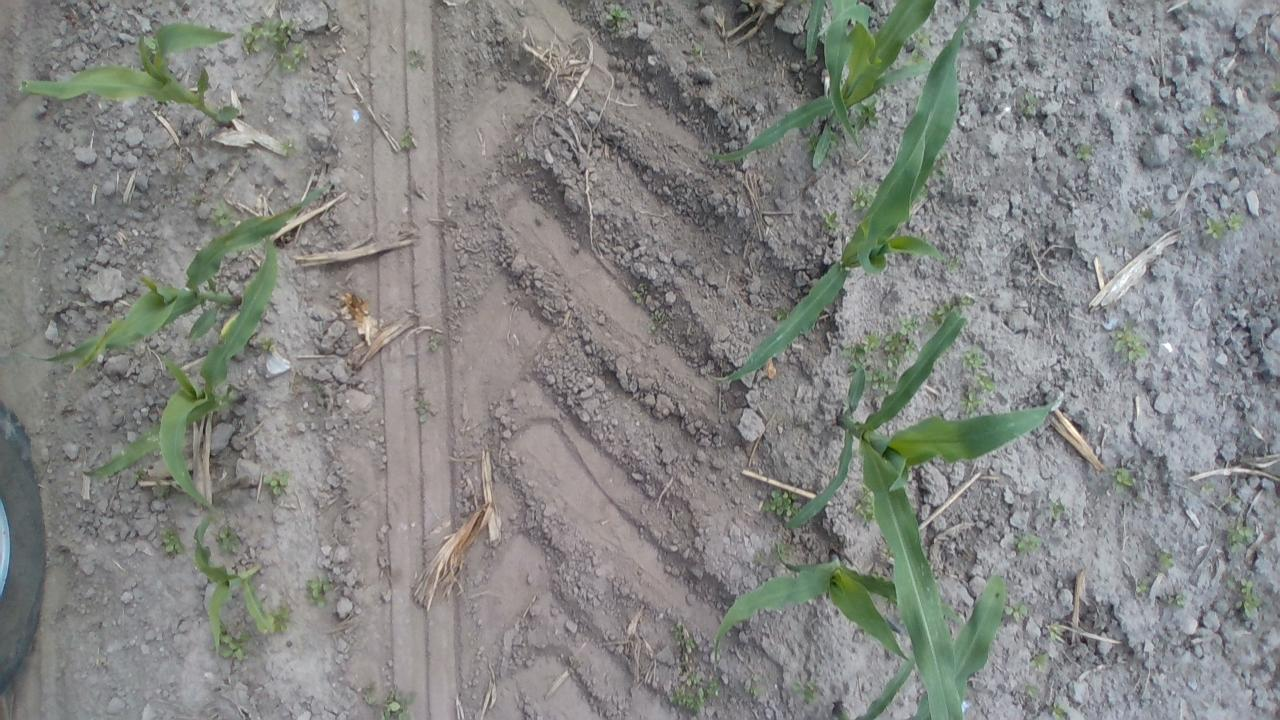Maize: (791, 294, 1056, 717), (716, 6, 983, 394), (84, 233, 285, 515), (68, 185, 332, 376), (701, 3, 953, 172), (703, 548, 980, 679), (852, 575, 1013, 720), (66, 20, 243, 134), (190, 498, 280, 647)
Weeds: (841, 314, 918, 398), (240, 15, 314, 74), (956, 344, 995, 420), (1184, 106, 1229, 162), (669, 674, 734, 710), (366, 684, 419, 719), (924, 289, 974, 326), (1228, 574, 1266, 621), (758, 482, 798, 526), (665, 620, 701, 668), (214, 623, 256, 662), (854, 486, 890, 530), (756, 538, 798, 572), (300, 574, 336, 611), (788, 676, 831, 706), (1196, 210, 1242, 238), (153, 526, 188, 562), (902, 24, 933, 63), (1221, 520, 1254, 556), (852, 96, 882, 135), (212, 527, 248, 557), (243, 330, 278, 360), (848, 179, 880, 211), (1110, 328, 1142, 360), (267, 602, 297, 636), (206, 206, 243, 232), (1010, 526, 1044, 554), (410, 388, 436, 424), (258, 467, 290, 496), (1107, 466, 1135, 499), (400, 46, 430, 75), (398, 121, 422, 153), (607, 6, 639, 30), (1020, 90, 1044, 122), (1024, 648, 1053, 674), (818, 211, 846, 237), (276, 136, 306, 160), (1156, 548, 1180, 578), (935, 247, 964, 271), (1004, 596, 1028, 624), (646, 309, 668, 338), (742, 684, 768, 708), (426, 333, 449, 359), (1169, 589, 1192, 613), (1044, 502, 1070, 520), (1042, 619, 1060, 643), (1074, 144, 1094, 165), (1045, 704, 1070, 720), (1021, 684, 1042, 702), (1135, 206, 1153, 226), (1132, 580, 1152, 598), (1199, 477, 1215, 499), (630, 282, 649, 300), (1265, 76, 1280, 96), (1269, 146, 1280, 168), (694, 39, 704, 59)
